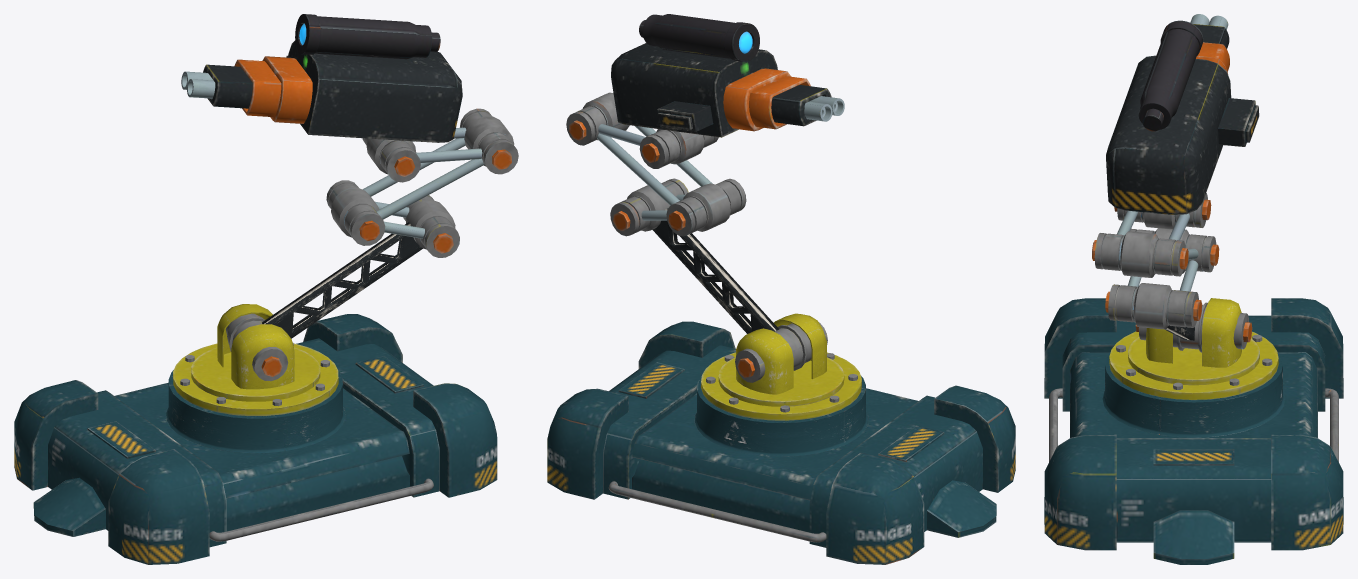
The model's file is sci-fi_turret_animated_by_get3dmodels.glb.
3 renders of one model, left to right at view 1: azimuth 30°, elevation 25°; view 2: azimuth 150°, elevation 25°; view 3: azimuth 270°, elevation 25°, orthographic. The views are drawn at different scales.
Parts seen in each view (by area): view 1: Cube.007_001_0_9, Cube.008_001_0_21, Cylinder.012_001_0_43, Cylinder.016_001_0_7, Cube.006_001_0_37, Cube.005_001_0_41, Cylinder.022_001_0_35, Cylinder.024_001_0_31, Cylinder.013_001_0_5, Cylinder.017_001_0_39, Cylinder.023_001_0_29, Cylinder.026_001_0_25 (+4 smaller); view 2: Cube.007_001_0_9, Cube.008_001_0_21, Cylinder.016_001_0_7, Cylinder.012_001_0_43, Cube.005_001_0_41, Cube.006_001_0_37, Cylinder.022_001_0_35, Cylinder.013_001_0_5, Cylinder.017_001_0_39, Cylinder.026_001_0_25, Cylinder.024_001_0_31, Cylinder.015_001_0_45 (+2 smaller); view 3: Cube.007_001_0_9, Cube.008_001_0_21, Cylinder.016_001_0_7, Cylinder.012_001_0_43, Cylinder.024_001_0_31, Cylinder.017_001_0_39, Cube.005_001_0_41, Cylinder.013_001_0_5, Cylinder.022_001_0_35, Cylinder.015_001_0_45, Cylinder.026_001_0_25, Cylinder.027_001_0_27 (+1 smaller).
Boxes of the visible parts, left/top/right/bottom form: Cube.007_001_0_9: left=14, top=314, right=497, bottom=564; Cube.008_001_0_21: left=203, top=14, right=462, bottom=142; Cylinder.012_001_0_43: left=173, top=343, right=338, bottom=415; Cylinder.016_001_0_7: left=166, top=370, right=345, bottom=453; Cube.006_001_0_37: left=262, top=222, right=422, bottom=338; Cube.005_001_0_41: left=217, top=304, right=294, bottom=389; Cylinder.022_001_0_35: left=326, top=180, right=385, bottom=245; Cylinder.024_001_0_31: left=460, top=108, right=518, bottom=174; Cylinder.013_001_0_5: left=209, top=478, right=433, bottom=541; Cylinder.017_001_0_39: left=403, top=195, right=459, bottom=257; Cylinder.023_001_0_29: left=362, top=138, right=484, bottom=219; Cylinder.026_001_0_25: left=362, top=138, right=420, bottom=182; Cube.007_001_0_9: left=547, top=321, right=1015, bottom=564; Cube.008_001_0_21: left=611, top=14, right=831, bottom=137; Cylinder.016_001_0_7: left=694, top=375, right=868, bottom=456; Cylinder.012_001_0_43: left=701, top=352, right=861, bottom=420; Cube.005_001_0_41: left=736, top=313, right=826, bottom=394; Cube.006_001_0_37: left=652, top=208, right=779, bottom=333; Cylinder.022_001_0_35: left=666, top=178, right=746, bottom=236; Cylinder.013_001_0_5: left=608, top=481, right=826, bottom=542; Cylinder.017_001_0_39: left=610, top=178, right=688, bottom=236; Cylinder.026_001_0_25: left=639, top=129, right=718, bottom=168; Cylinder.024_001_0_31: left=566, top=92, right=629, bottom=145; Cylinder.015_001_0_45: left=735, top=322, right=827, bottom=382; Cube.007_001_0_9: left=1044, top=298, right=1343, bottom=564; Cube.008_001_0_21: left=1106, top=20, right=1259, bottom=214; Cylinder.016_001_0_7: left=1102, top=352, right=1285, bottom=437; Cylinder.012_001_0_43: left=1109, top=331, right=1278, bottom=399; Cylinder.024_001_0_31: left=1092, top=231, right=1188, bottom=277; Cylinder.017_001_0_39: left=1105, top=283, right=1202, bottom=329; Cube.005_001_0_41: left=1146, top=298, right=1241, bottom=367; Cylinder.013_001_0_5: left=1049, top=388, right=1338, bottom=461; Cylinder.022_001_0_35: left=1130, top=228, right=1219, bottom=273; Cylinder.015_001_0_45: left=1135, top=302, right=1252, bottom=352; Cylinder.026_001_0_25: left=1114, top=193, right=1211, bottom=229; Cylinder.027_001_0_27: left=1117, top=210, right=1189, bottom=240.
Size of the model in its own units: 399 by 386 by 228.
1 material, 1 textured.
